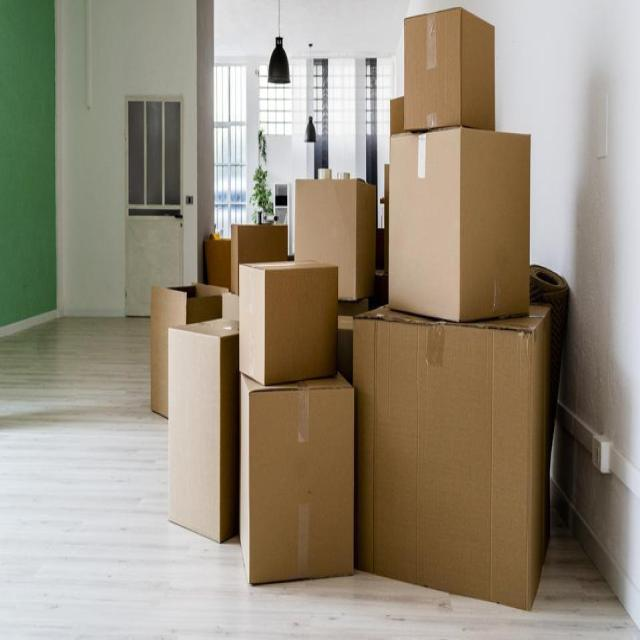Pathole: (351, 306, 549, 612), (388, 131, 532, 324), (238, 365, 353, 587), (168, 319, 241, 544), (240, 260, 339, 386), (404, 6, 496, 133), (294, 175, 375, 302)
